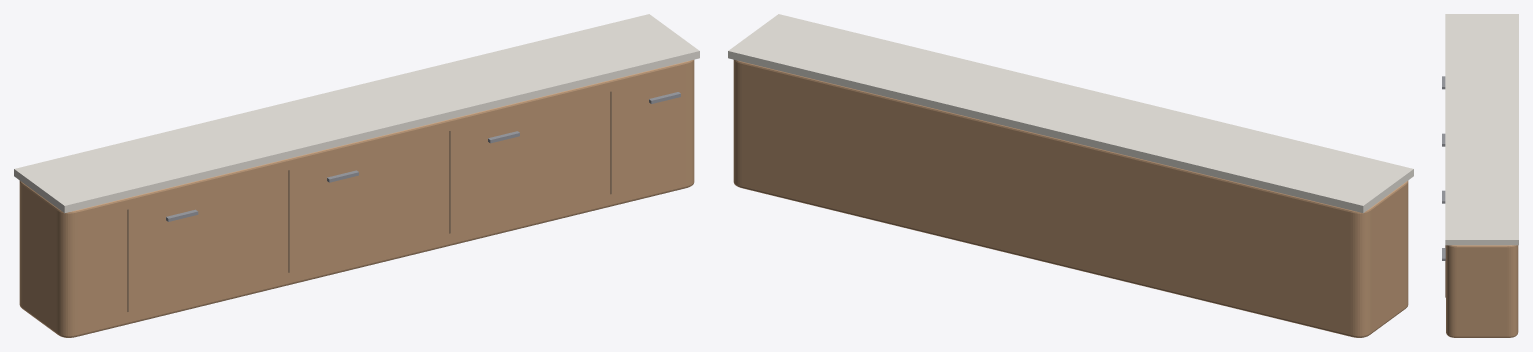
Rendered from cabinet.glb.
The picture shows the model from 3 angles, left to right: view 1: azimuth 30°, elevation 25°; view 2: azimuth 150°, elevation 25°; view 3: azimuth 270°, elevation 25°; orthographic projection. The views are drawn at different scales.
Bounding box in the file's own units: 3.63 × 0.74 × 0.5225.
